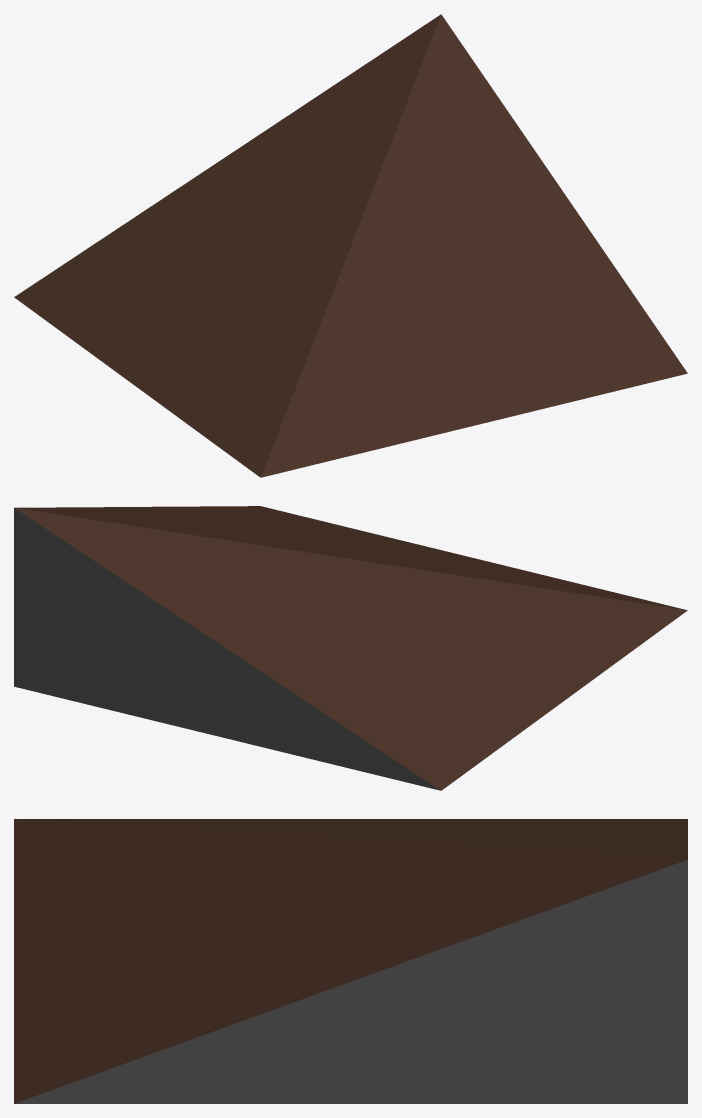
File: BlockTerrainCorner.glb
3 views of the same model, one above another, from view 1: azimuth 30°, elevation 25°; view 2: azimuth 150°, elevation 25°; view 3: azimuth 270°, elevation 25° (orthographic). The views are drawn at different scales.
Visible parts, largest first — view 1: Block Ground Corner 1; view 2: Block Ground Corner 1; view 3: Block Ground Corner 1.
Boxes of the visible parts, <box> form: Block Ground Corner 1: <box>14,14,687,477</box>; Block Ground Corner 1: <box>14,506,687,790</box>; Block Ground Corner 1: <box>14,819,687,1103</box>.
Bounding box in the file's own units: 1 × 0.4 × 1.
